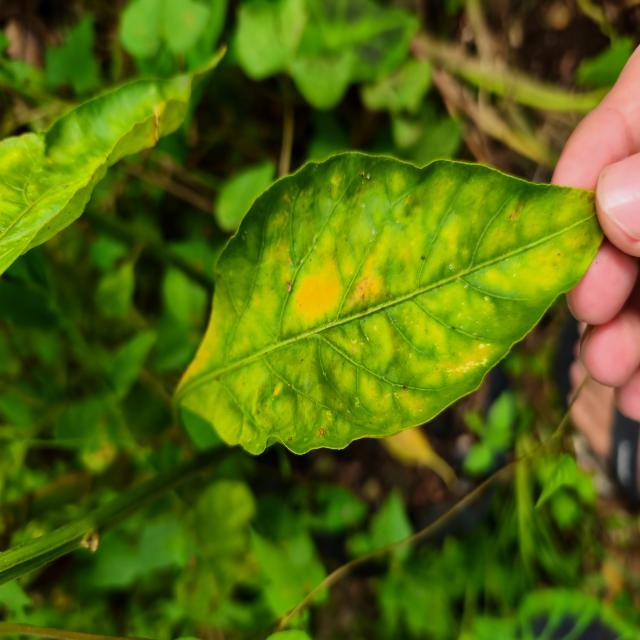Virus Kuning: (172, 149, 605, 458), (1, 42, 228, 278)
